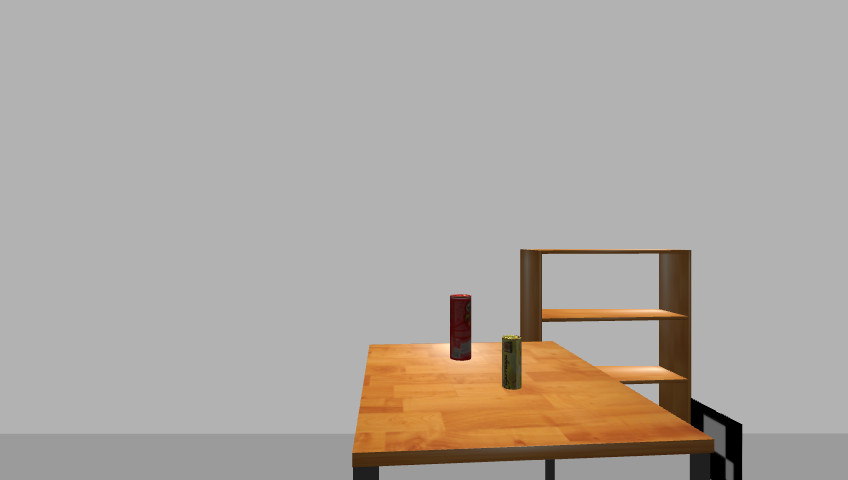aruco marker: (685, 397, 748, 479)
biscuits pack: (501, 336, 523, 391)
bookshelf: (514, 246, 701, 480)
dinner table: (346, 339, 720, 480)
pringles can: (447, 293, 474, 363)
